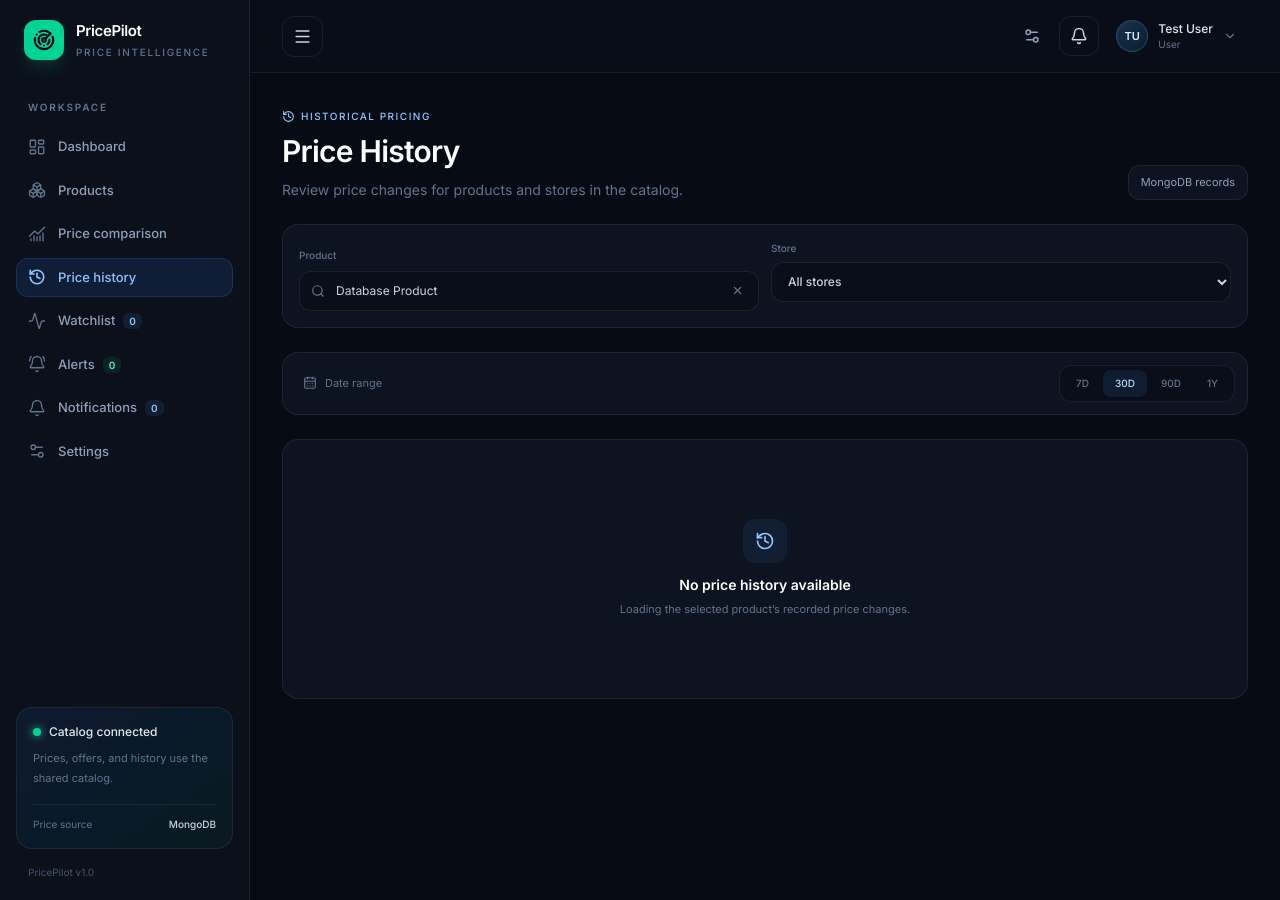
Price History page › filters products immediately by full and partial product names
The image size is (1280, 900).
Replace the text in the dropdown labelled "Product" with "sOnY wH-1000XM5": (529, 291) 299,271 -> 759,311
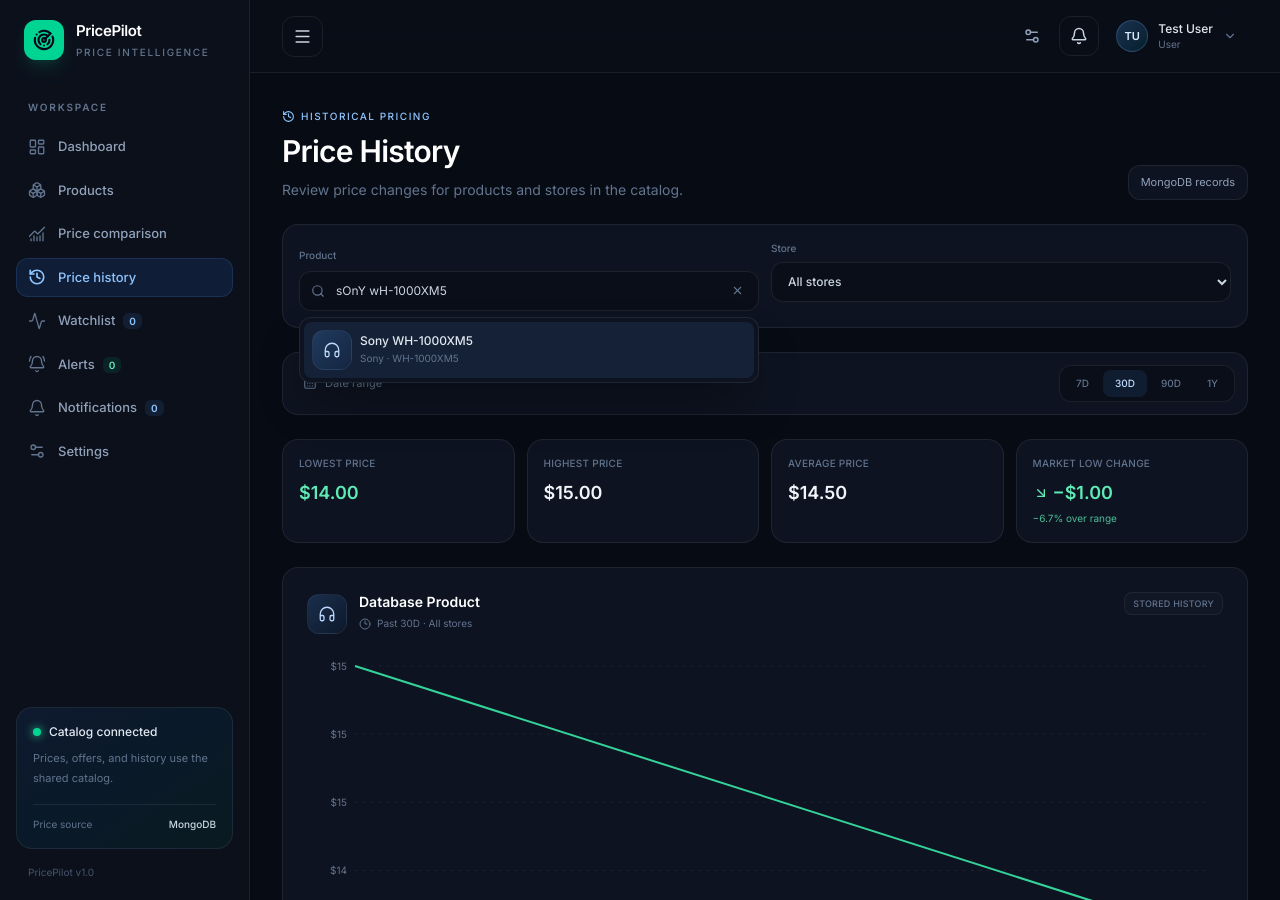
Result: the option "Sony WH-1000XM5 Sony · WH-1000XM5" is shown at 304,322 -> 754,378
Replace the text in the dropdown labelled "Product" with "dAtAbAsE": (529, 291) 299,271 -> 759,311
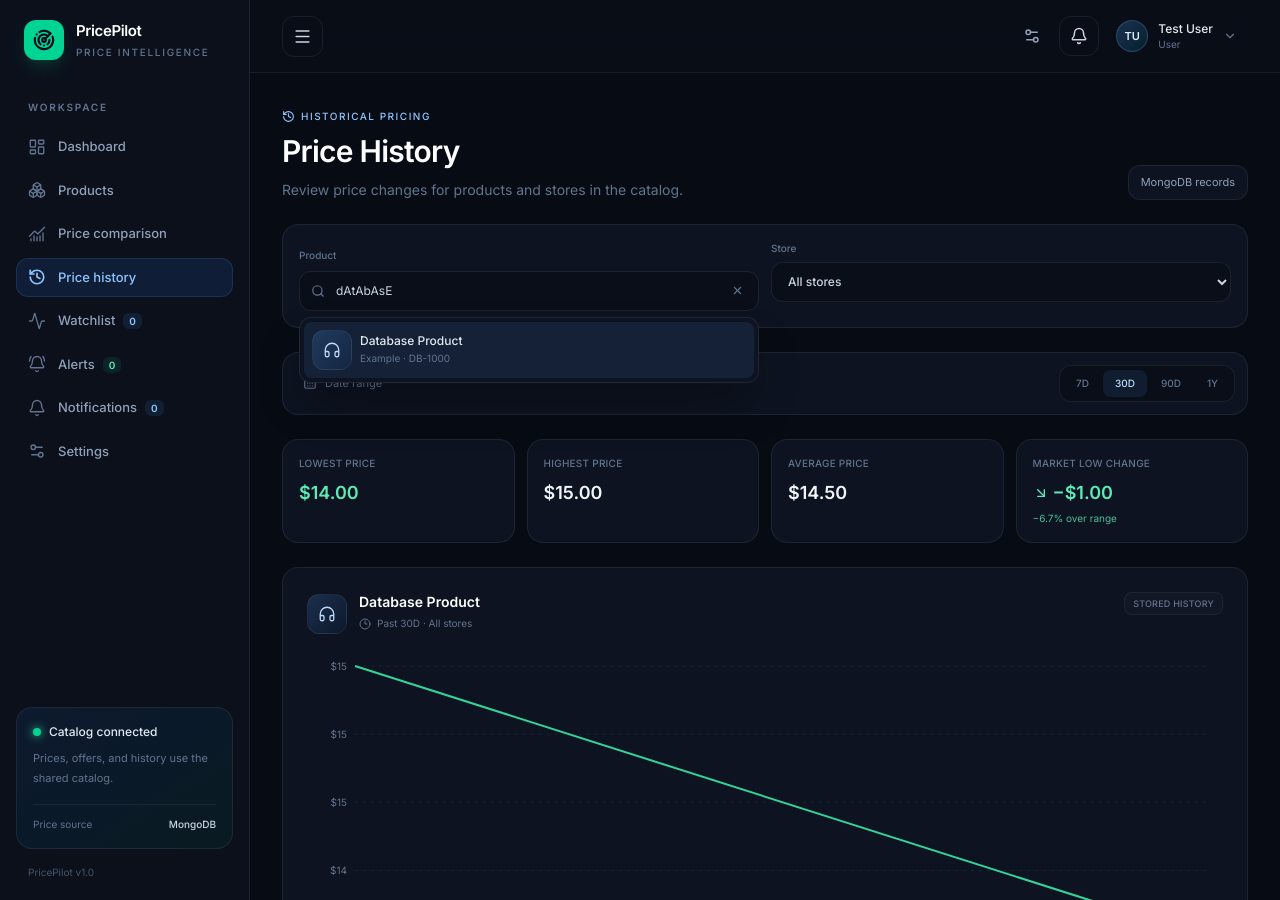
Result: the option "Database Product Example · DB-1000" is shown at 304,322 -> 754,378
Result: the option "Sony WH-1000XM5" is gone
